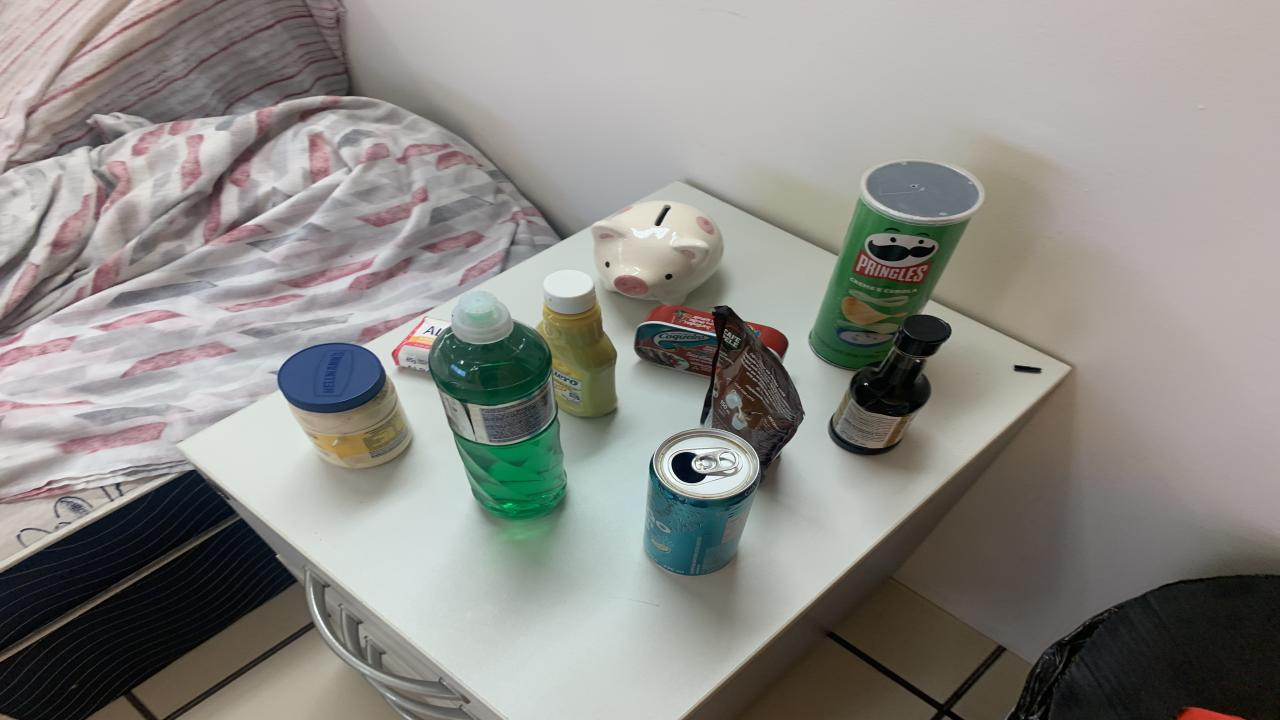Coffee-Pantry_Items: (702, 306, 805, 478)
Detergent-Cleanup_Items: (430, 291, 568, 518)
English_Sauce-Pantry_Items: (830, 315, 950, 454)
Mayonnaise-Pantry_Items: (278, 343, 410, 469)
Mustard-Pantry_Items: (538, 270, 618, 416)
Pig_Safe-Miscellaneous: (592, 201, 722, 306)
Pringles-Snacks: (810, 159, 985, 369)
Soap-Cleanup_Items: (392, 317, 450, 371)
Tea-Drinks: (645, 428, 760, 576)
Tuna_Can-Pantry_Items: (635, 306, 718, 377), (750, 322, 788, 358)
